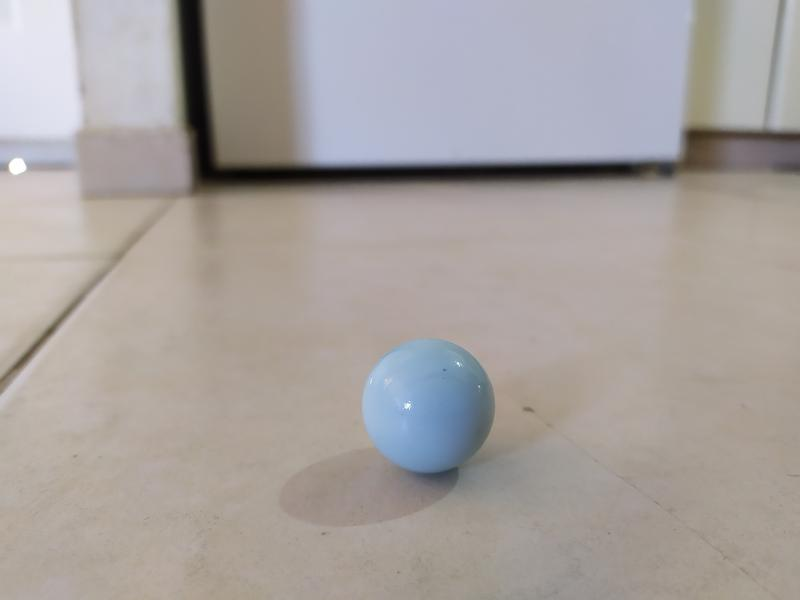Warning: (357, 335, 500, 479)
